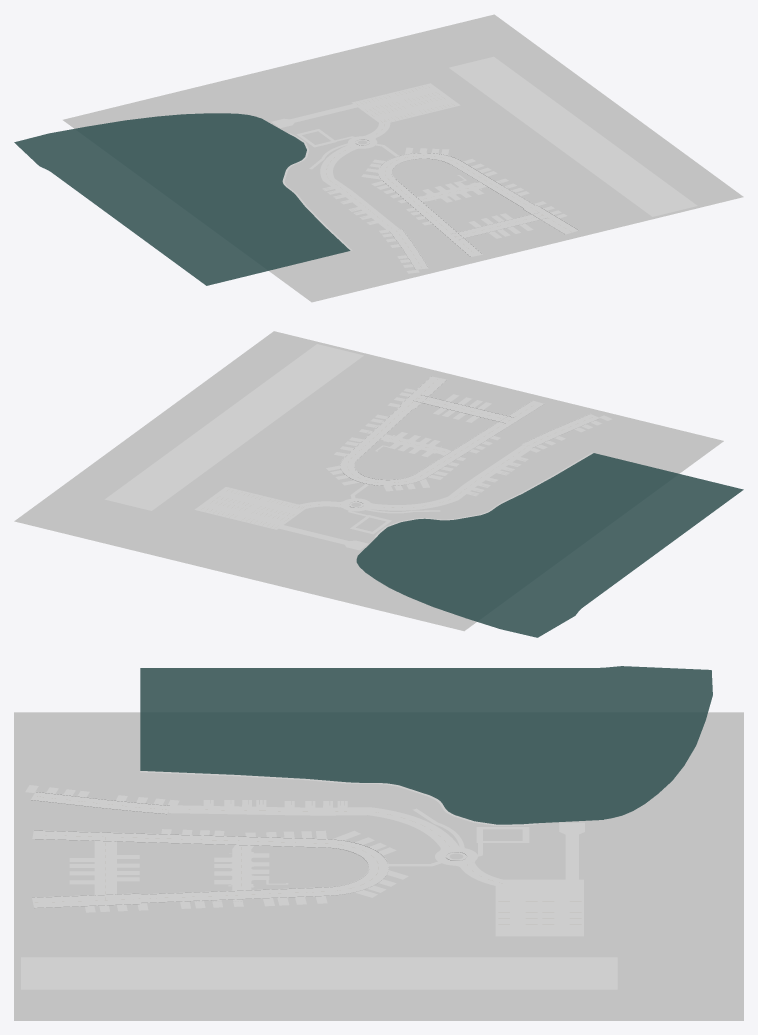
The model's file is hood_ground.glb.
3 views of the same model, one above another, from view 1: azimuth 30°, elevation 25°; view 2: azimuth 150°, elevation 25°; view 3: azimuth 270°, elevation 25° (orthographic). The views are drawn at different scales.
Visible parts, largest first — view 1: terrain, lake, ch2_H1_road, roads, ch2_L1_road, ch2_R1_road, ch2_R4_road, ch2_R3_road; view 2: terrain, lake, ch2_H1_road, roads, ch2_L1_road, ch2_R1_road, ch2_R4_road, ch2_R3_road, ch2_dock_road; view 3: terrain, lake, ch2_H1_road, roads, ch2_L1_road, ch2_R1_road, ch2_R4_road, ch2_L1_kerb, ch2_R3_road, ch2_R2_road, ch2_dock_road, shore (+1 smaller).
Part boxes in pixels (x1,y1,x2,y2): terrain: (63,14,743,302); lake: (14,113,350,285); ch2_H1_road: (449,56,697,216); roads: (320,83,481,230); ch2_L1_road: (378,153,534,225); ch2_R1_road: (452,213,546,239); ch2_R4_road: (390,229,428,269); ch2_R3_road: (524,205,578,234); terrain: (14,331,723,631); lake: (356,453,743,637); ch2_H1_road: (105,344,363,510); roads: (195,435,530,529); ch2_L1_road: (340,406,495,485); ch2_R1_road: (414,395,512,422); ch2_R4_road: (521,414,599,448); ch2_R3_road: (399,376,446,408); ch2_dock_road: (279,525,368,550); terrain: (14,712,743,1020); lake: (140,666,712,824); ch2_H1_road: (21,957,617,989); roads: (168,805,583,936); ch2_L1_road: (139,834,388,902); ch2_R1_road: (95,837,116,899); ch2_R4_road: (31,792,170,813); ch2_L1_kerb: (140,834,388,902); ch2_R3_road: (32,894,141,907); ch2_R2_road: (32,831,152,841); ch2_dock_road: (559,822,584,879); shore: (140,771,536,825).
Bounding box in the file's own units: 352 × 0.18 × 306.
